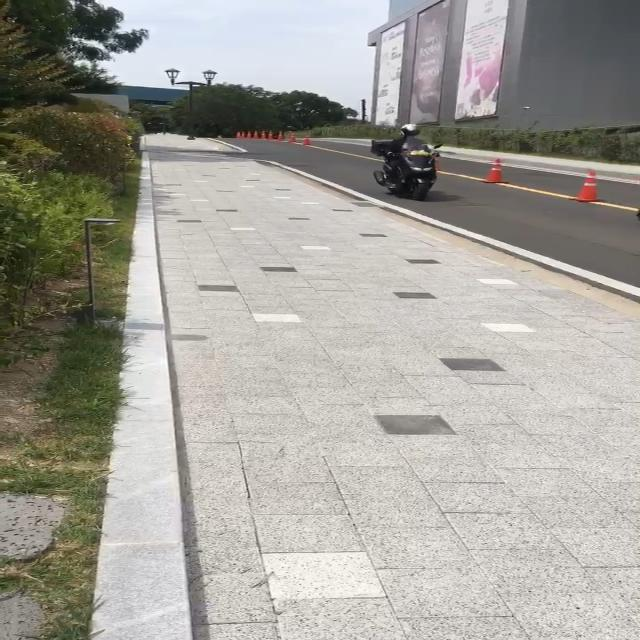obstacle: (356, 119, 444, 197), (163, 66, 219, 141), (564, 166, 610, 203), (477, 153, 516, 188)
road: (231, 137, 640, 318)
sidewalk: (96, 150, 640, 640), (339, 138, 640, 190), (150, 138, 231, 152)
